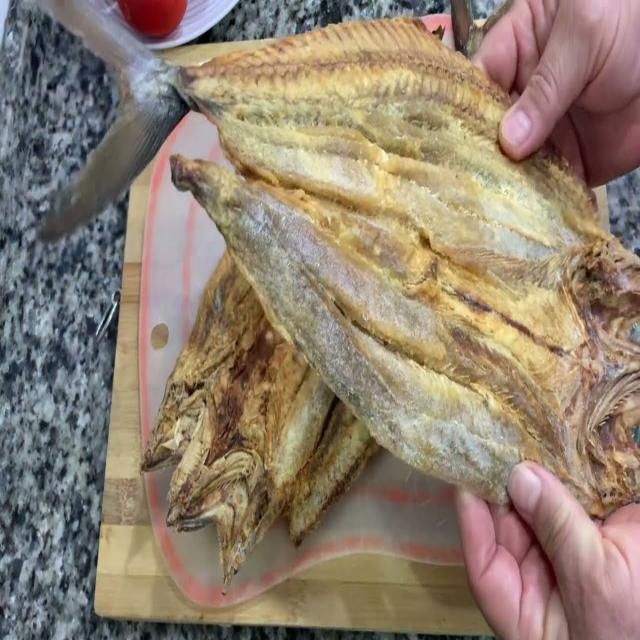pescado: (31, 8, 638, 538)
